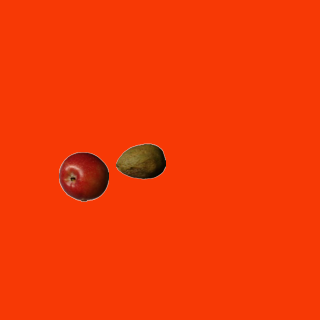Apple Braeburn: (58, 151, 108, 201)
Papaya: (115, 136, 165, 186)
